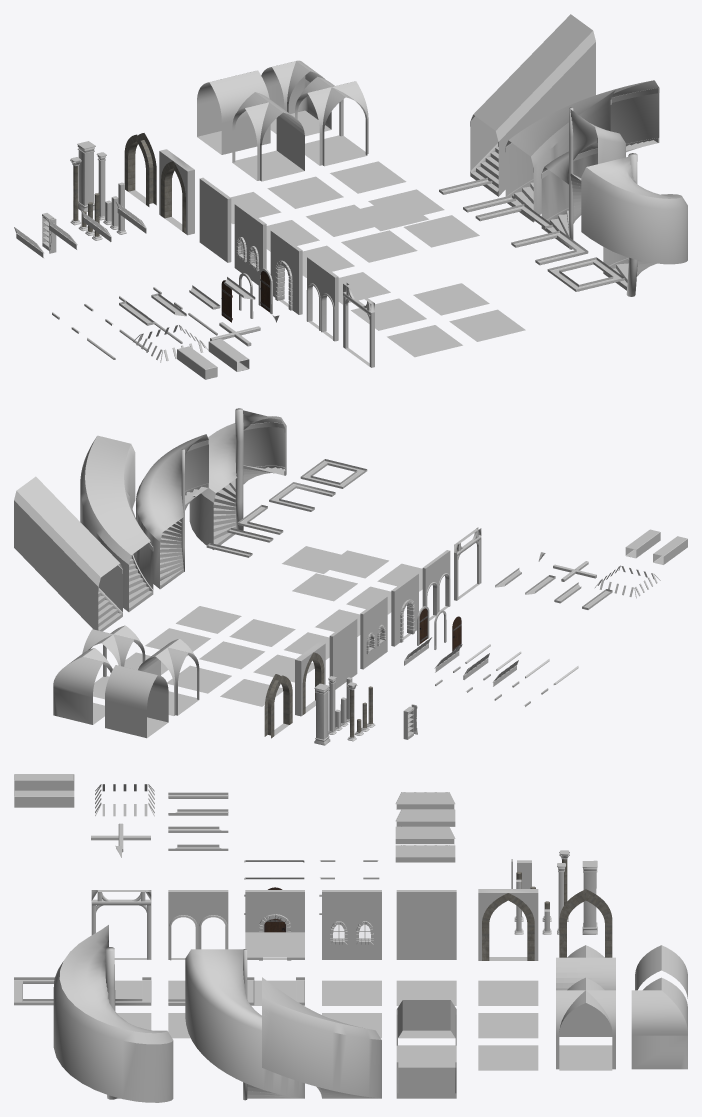
File: SketchFab_FBX_All_Modules.fbx
The picture shows the model from 3 angles, top to bottom: view 1: azimuth 30°, elevation 25°; view 2: azimuth 150°, elevation 25°; view 3: azimuth 270°, elevation 25°; orthographic projection. The views are drawn at different scales.
Visible parts, largest first — view 1: Object119, Object556, Object129, Object123, Object892, Object894, Object893, Object889, wall, arcWall, doorArcWall, windowedWall (+26 smaller); view 2: Object119, Object129, Object556, Object123, Object892, Object889, Object894, windowedWall, wall, Object893, doorArcWall, arcWall (+23 smaller); view 3: Object556, Object123, Object129, Object889, wall, windowedWall, Object119, Object893, Object894, arcWall, doorArcWall, doubleArcWall (+22 smaller).
Part boxes in pixels (x1,y1,x2,y2): Object119: (470, 14, 595, 196); Object556: (581, 153, 687, 296); Object129: (505, 80, 659, 222); Object123: (541, 107, 625, 249); Object892: (197, 70, 270, 154); Object894: (232, 92, 304, 181); Object893: (295, 76, 368, 166); Object889: (261, 60, 331, 136); wall: (199, 177, 231, 262); arcWall: (159, 149, 194, 235); doorArcWall: (270, 230, 302, 314); windowedWall: (234, 203, 266, 285); Object119: (14, 476, 122, 631); Object129: (80, 435, 153, 611); Object556: (189, 408, 286, 549); Object123: (136, 434, 208, 589); Object892: (105, 665, 168, 738); Object889: (53, 648, 112, 724); Object894: (138, 638, 199, 715); windowedWall: (360, 595, 387, 669); wall: (329, 618, 357, 689); Object893: (82, 625, 145, 699); doorArcWall: (391, 573, 418, 646); arcWall: (295, 642, 325, 716); Object556: (53, 925, 173, 1102); Object123: (185, 949, 304, 1100); Object129: (262, 977, 381, 1098); Object889: (631, 977, 687, 1069); wall: (396, 890, 456, 959); windowedWall: (322, 890, 381, 959); Object119: (396, 1000, 456, 1098); Object893: (556, 977, 615, 1070); Object894: (556, 945, 615, 1036); arcWall: (478, 889, 538, 960); doorArcWall: (245, 890, 304, 960); doubleArcWall: (168, 890, 228, 960).
Size of the model in its own units: 4735 by 1101 by 4497.
